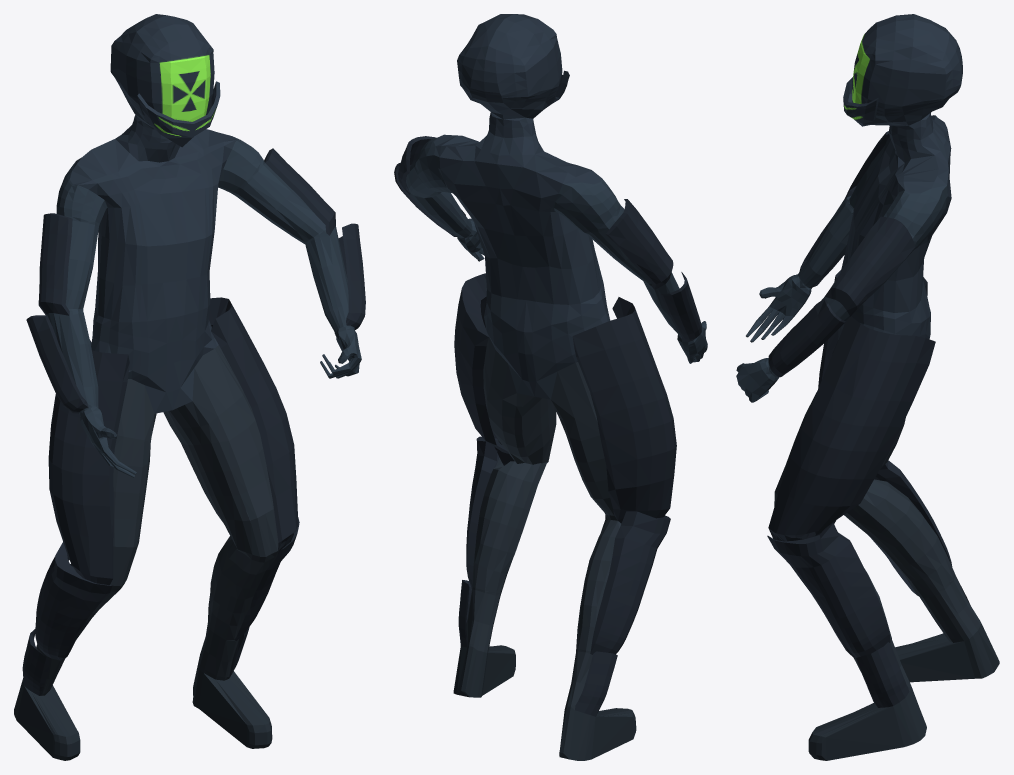
The model's file is Bastion_Hit_Recover_000007.obj.
The picture shows the model from 3 angles, left to right: view 1: azimuth 30°, elevation 25°; view 2: azimuth 150°, elevation 25°; view 3: azimuth 270°, elevation 25°; orthographic projection.
Parts seen in each view (by area): view 1: Cube.002; view 2: Cube.002; view 3: Cube.002.
Part boxes in pixels (left/top/right/bottom): Cube.002: left=14, top=14, right=365, bottom=760; Cube.002: left=394, top=14, right=707, bottom=760; Cube.002: left=736, top=14, right=999, bottom=760.
Size of the model in its own units: 1.7 by 3.67 by 1.23.
